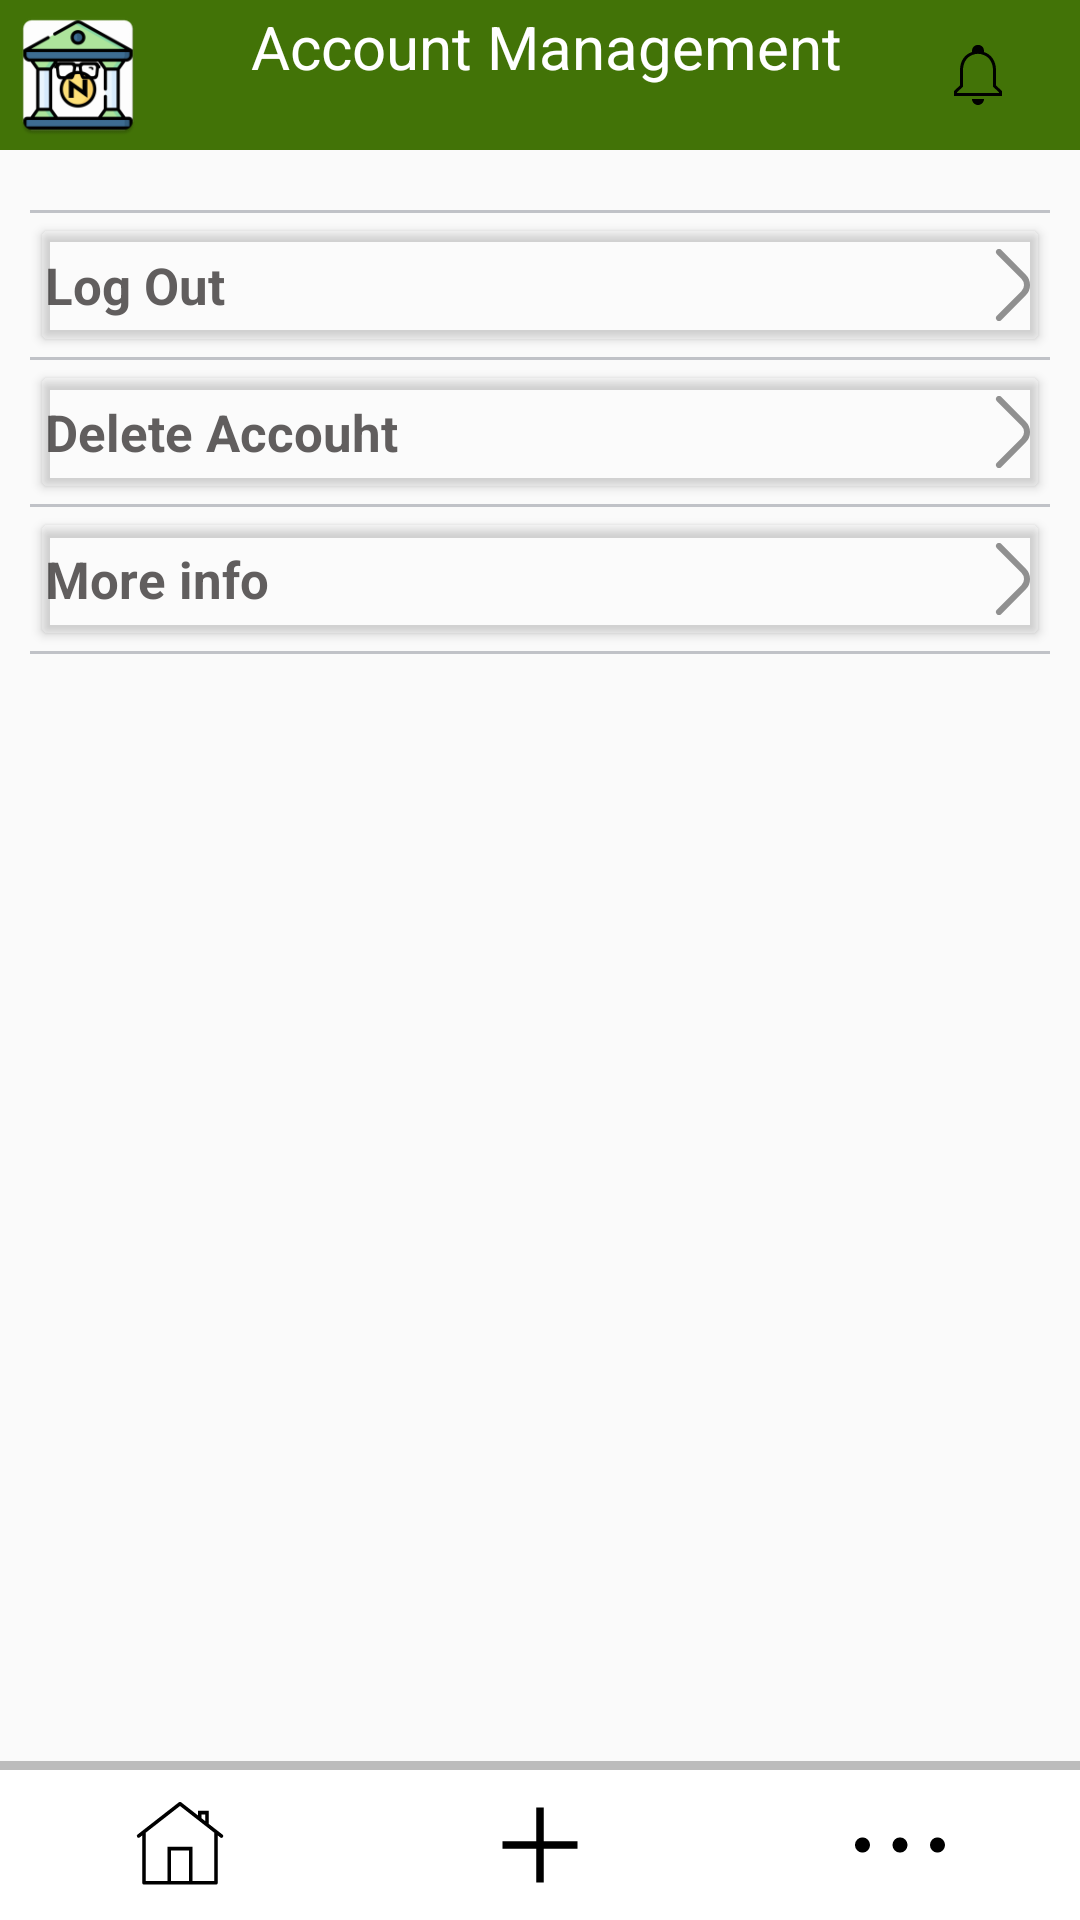

Icons on this 1080px x 1920px Android screen, each with the point to tap as (x,y):
arrow: (1017,285), (1017,432), (1017,579)
dots: (900,1845)
home: (180,1843)
notifications: (978,75)
transact: (540,1845)
